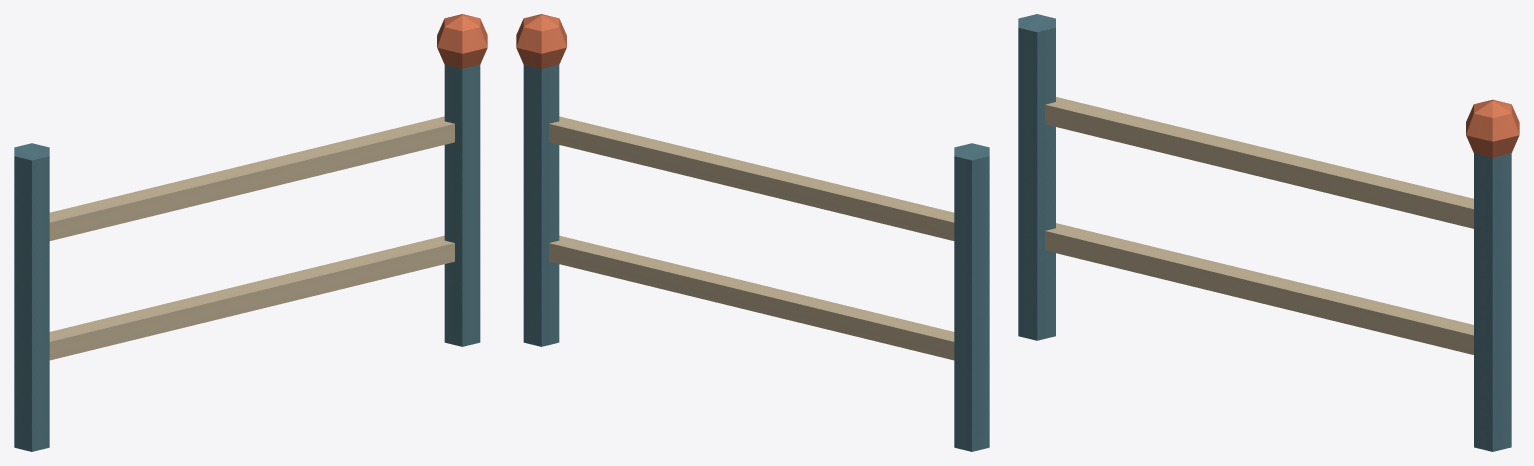
File: atlas100-sailpunk-util04.lod1.glb
3 views of the same model, side by side, from view 1: azimuth 30°, elevation 25°; view 2: azimuth 150°, elevation 25°; view 3: azimuth 330°, elevation 25° (orthographic). The views are drawn at different scales.
Visible parts, largest first — view 1: atlas100-sailpunk-util04:part-005, atlas100-sailpunk-util04:part-004, atlas100-sailpunk-util04:part-000, atlas100-sailpunk-util04:part-002, atlas100-sailpunk-util04:part-003; view 2: atlas100-sailpunk-util04:part-005, atlas100-sailpunk-util04:part-004, atlas100-sailpunk-util04:part-000, atlas100-sailpunk-util04:part-002, atlas100-sailpunk-util04:part-003; view 3: atlas100-sailpunk-util04:part-005, atlas100-sailpunk-util04:part-004, atlas100-sailpunk-util04:part-000, atlas100-sailpunk-util04:part-002, atlas100-sailpunk-util04:part-003.
Part boxes in pixels (x1,y1,x2,y2): atlas100-sailpunk-util04:part-005: (49, 116, 454, 240); atlas100-sailpunk-util04:part-004: (49, 235, 454, 360); atlas100-sailpunk-util04:part-000: (14, 143, 49, 451); atlas100-sailpunk-util04:part-002: (444, 64, 480, 346); atlas100-sailpunk-util04:part-003: (437, 14, 487, 68); atlas100-sailpunk-util04:part-005: (549, 116, 954, 240); atlas100-sailpunk-util04:part-004: (549, 235, 954, 360); atlas100-sailpunk-util04:part-000: (954, 143, 989, 451); atlas100-sailpunk-util04:part-002: (523, 64, 559, 346); atlas100-sailpunk-util04:part-003: (516, 14, 566, 68); atlas100-sailpunk-util04:part-005: (1045, 97, 1473, 228); atlas100-sailpunk-util04:part-004: (1045, 223, 1473, 354); atlas100-sailpunk-util04:part-000: (1018, 14, 1055, 340); atlas100-sailpunk-util04:part-002: (1474, 153, 1511, 451); atlas100-sailpunk-util04:part-003: (1466, 99, 1519, 157).
Bounding box in the file's own units: 2.09 × 1.36 × 0.1931.
Materials: 3 (3 with a texture image).
